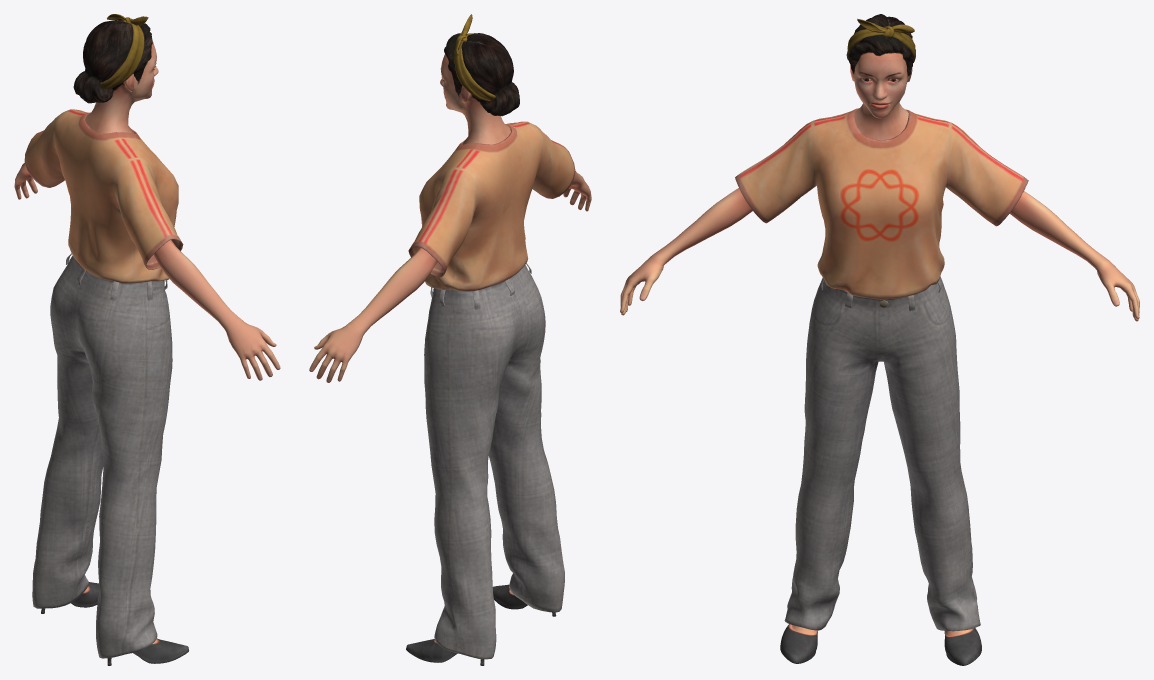
File: sm_hairbandwoman_web.fbx
The picture shows the model from 3 angles, left to right: view 1: azimuth 30°, elevation 25°; view 2: azimuth 150°, elevation 25°; view 3: azimuth 270°, elevation 25°; orthographic projection. The views are drawn at different scales.
Parts seen in each view (by area): view 1: sm_hairbandwoman_web; view 2: sm_hairbandwoman_web; view 3: sm_hairbandwoman_web.
Part boxes in pixels (x1,y1,x2,y2): sm_hairbandwoman_web: [14, 14, 280, 665]; sm_hairbandwoman_web: [309, 14, 591, 665]; sm_hairbandwoman_web: [620, 14, 1139, 665].
Size of the model in its own units: 0.346 by 1.89 by 1.39.
